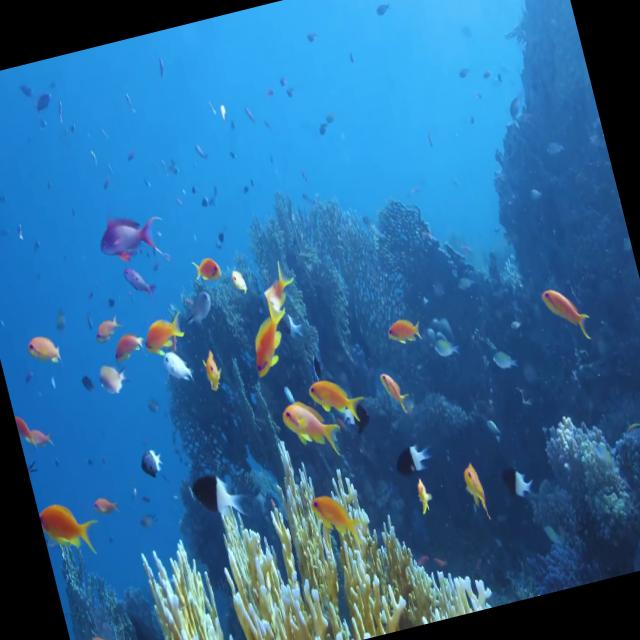fish: (85, 196, 172, 278), (32, 473, 107, 567), (185, 456, 257, 544), (276, 381, 350, 463), (238, 296, 308, 380), (532, 264, 596, 353), (302, 477, 369, 562), (368, 286, 431, 363), (300, 359, 364, 432), (455, 449, 504, 538), (9, 386, 57, 458), (494, 450, 548, 513), (249, 251, 303, 314), (370, 360, 414, 427), (136, 302, 192, 354), (190, 338, 232, 404), (154, 334, 198, 392), (388, 436, 439, 482), (22, 322, 68, 373), (106, 323, 152, 369), (221, 258, 259, 312), (186, 250, 230, 296), (136, 438, 172, 494), (96, 358, 135, 404), (479, 338, 521, 380), (90, 309, 124, 336)
